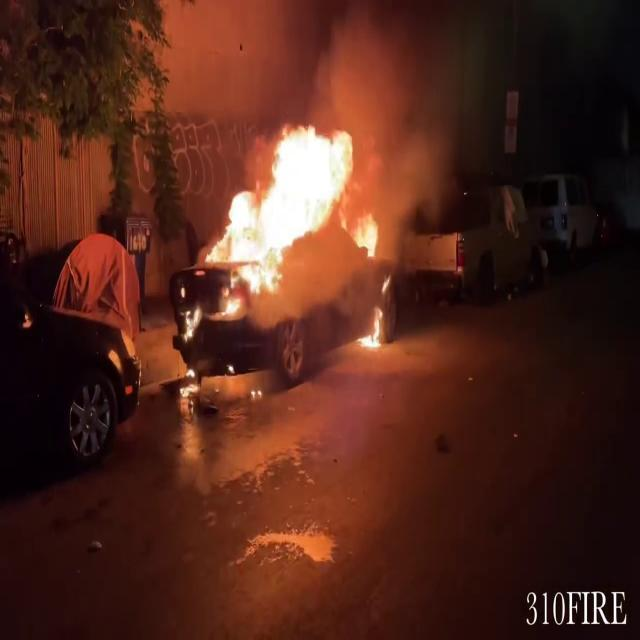Fire: (190, 118, 390, 337), (354, 306, 390, 354)
Smoke: (328, 1, 488, 219)
